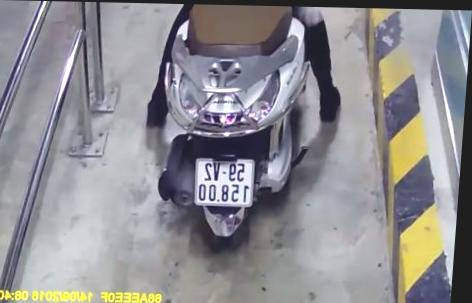License_Plate: (190, 153, 259, 213)
